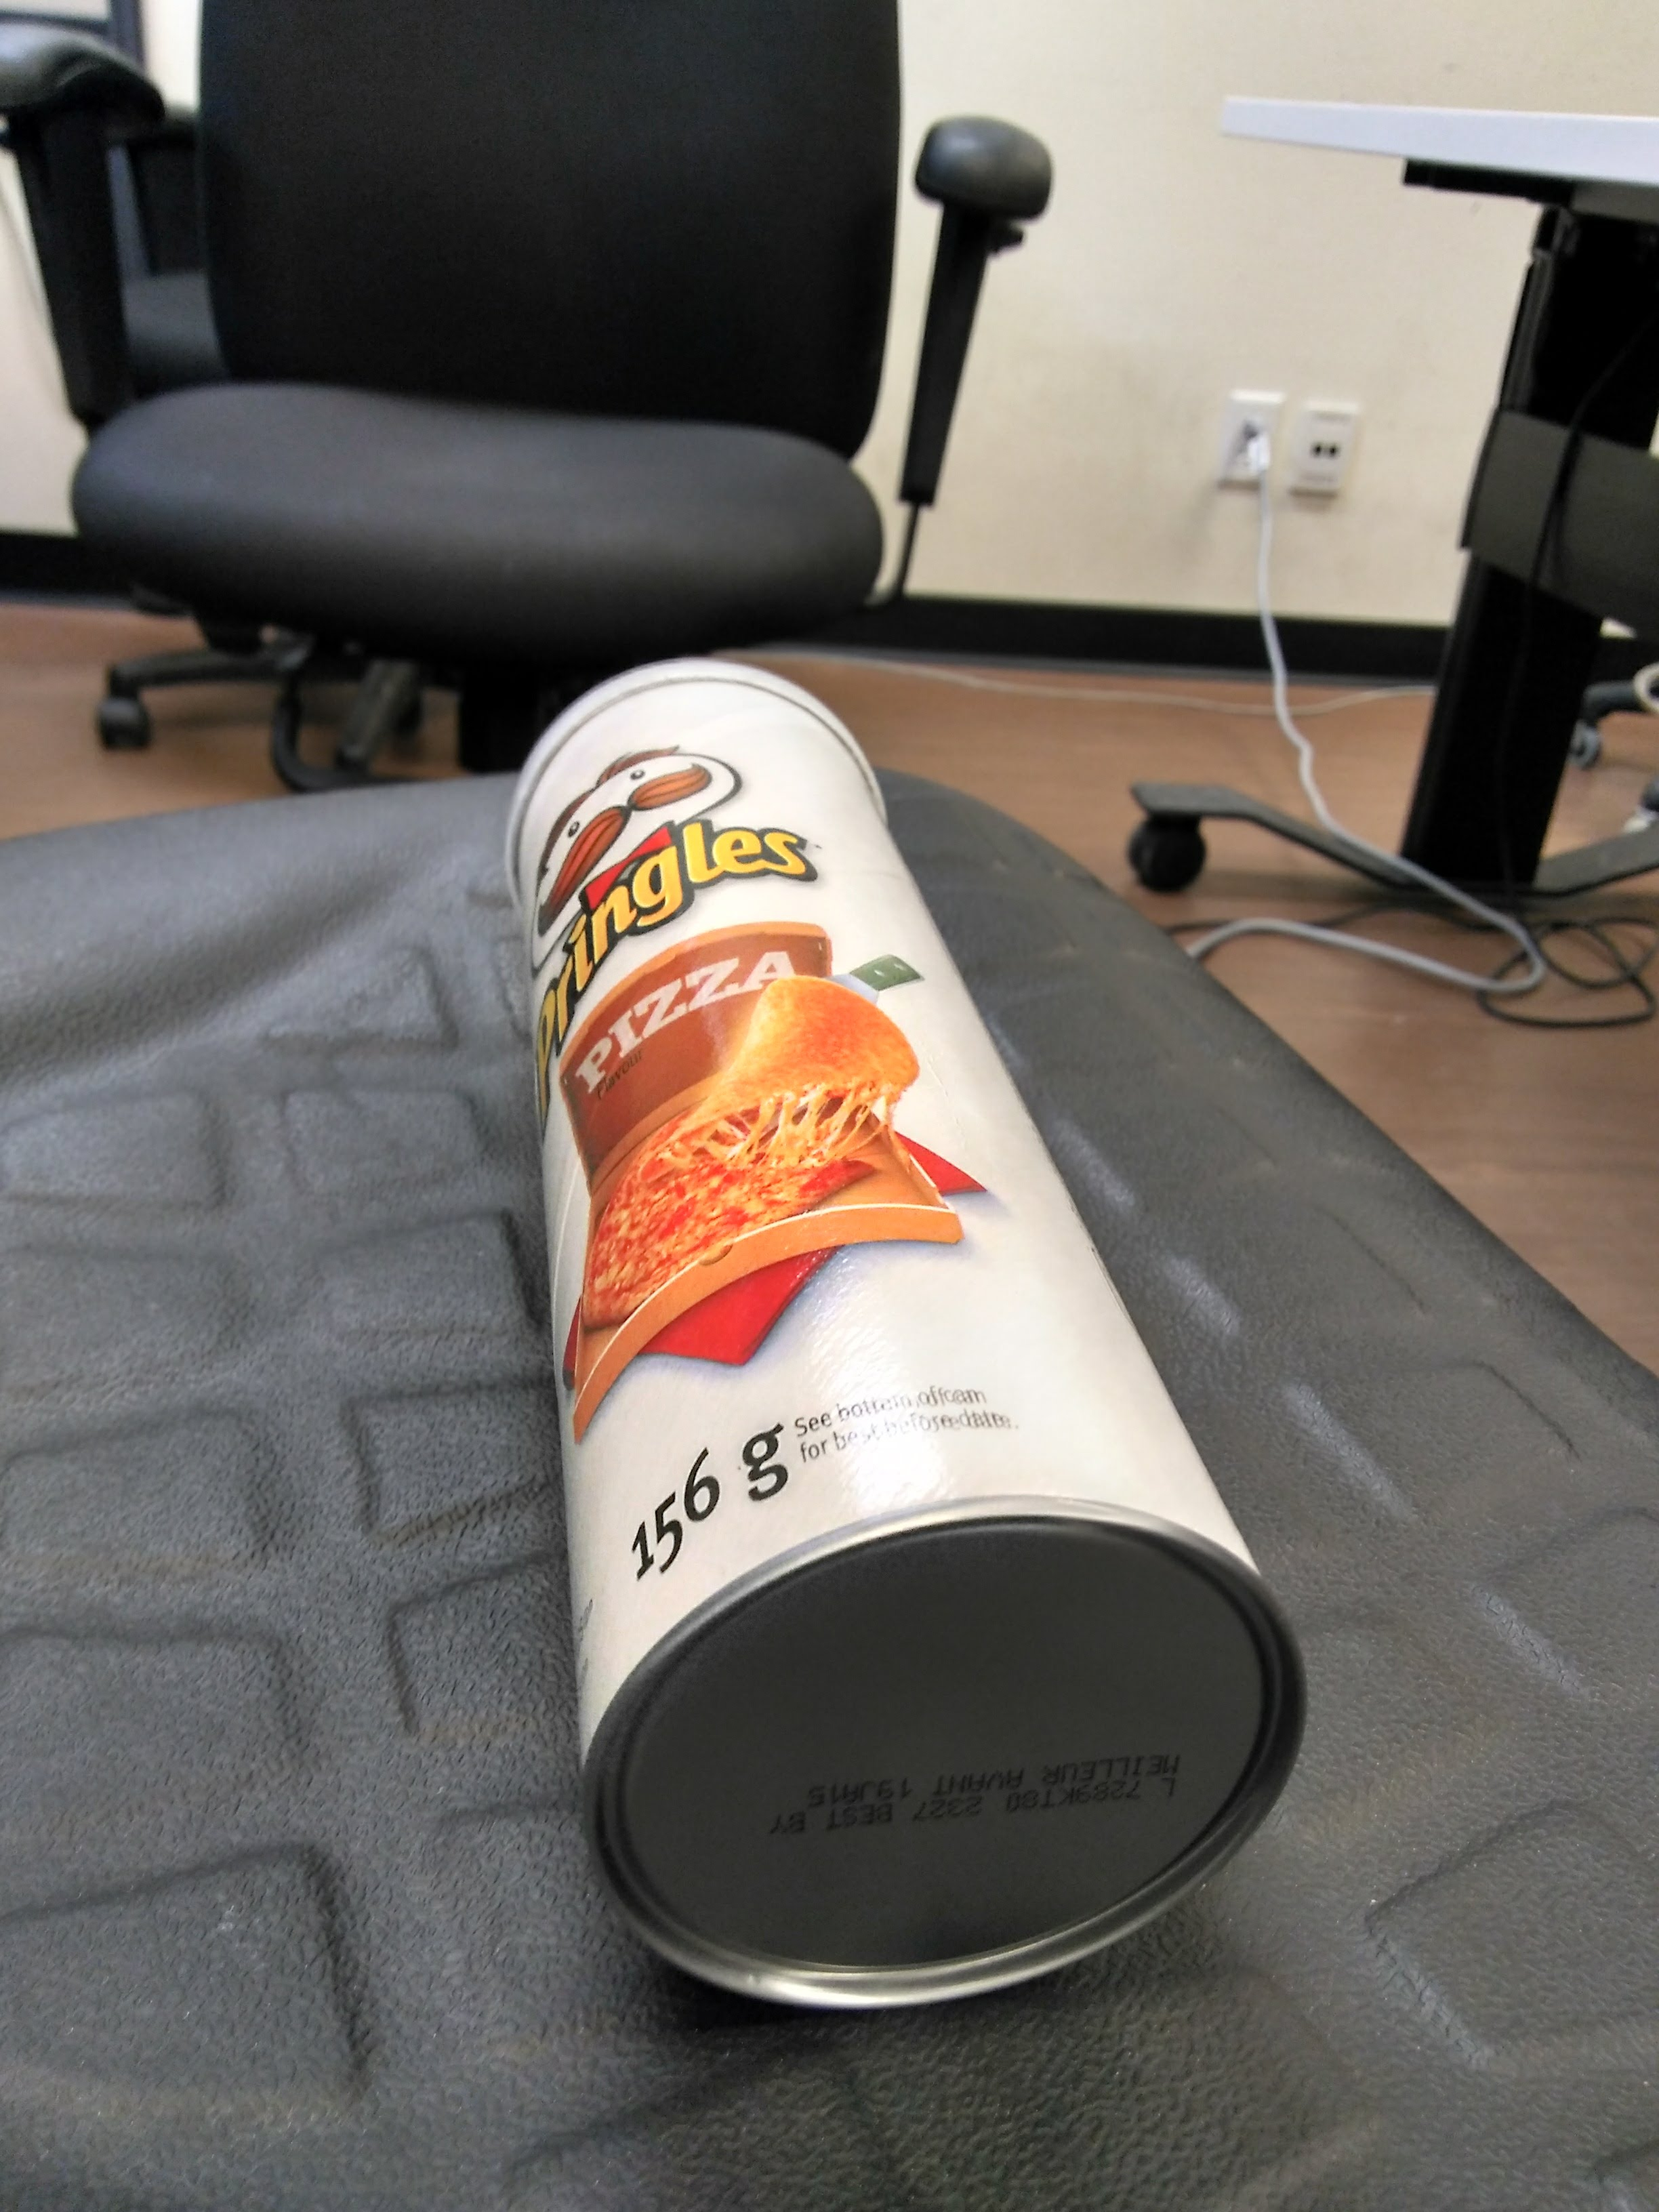pringles: (448, 639, 1338, 2038)
